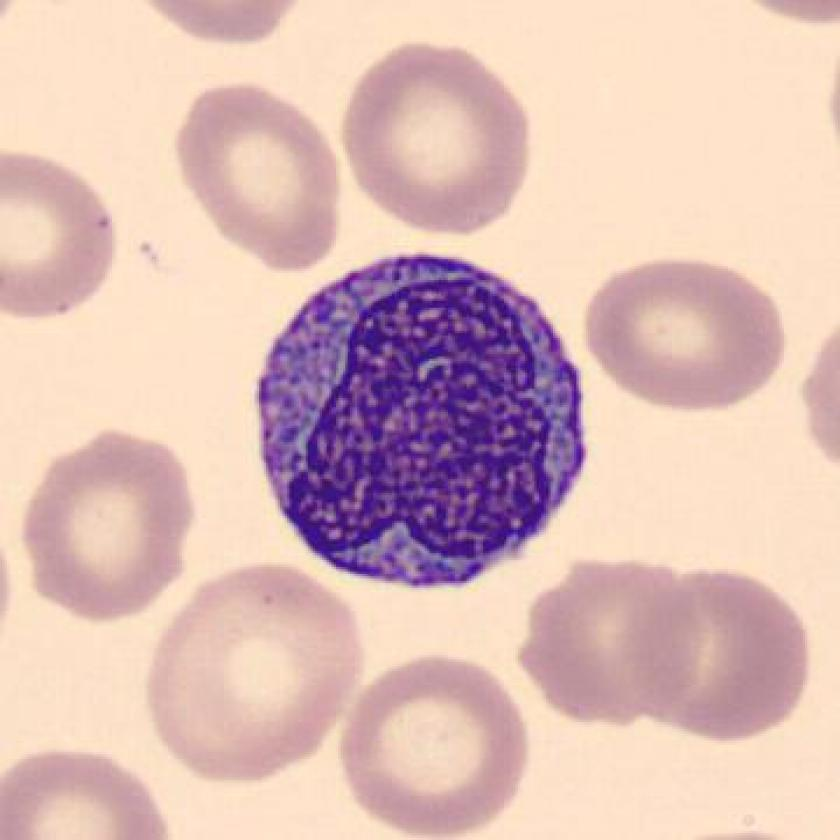monocyte: (232, 230, 612, 607)
